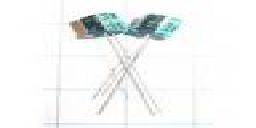Electrolytic-capacitor: (129, 11, 185, 49), (82, 11, 126, 41)
